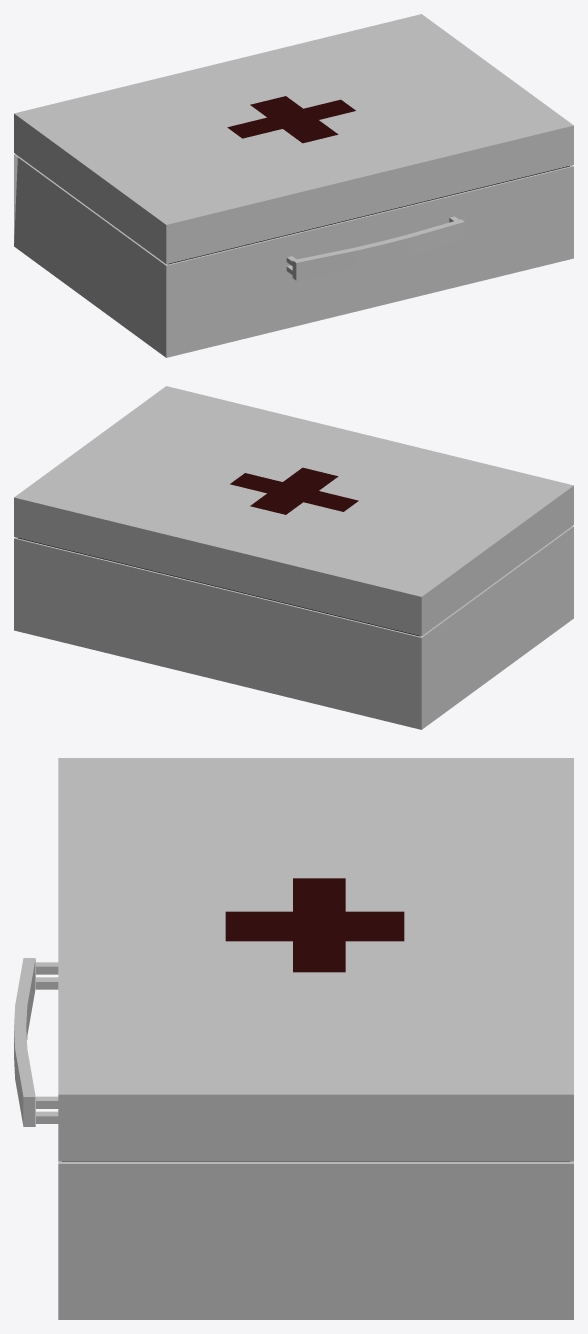
File: Obat.obj
3 renders of one model, top to bottom at view 1: azimuth 30°, elevation 25°; view 2: azimuth 150°, elevation 25°; view 3: azimuth 270°, elevation 25°, orthographic. The views are drawn at different scales.
Parts seen in each view (by area): view 1: Cube; view 2: Cube; view 3: Cube.
Part boxes in pixels (left/top/right/bottom): Cube: left=14, top=14, right=573, bottom=357; Cube: left=14, top=386, right=573, bottom=729; Cube: left=14, top=758, right=573, bottom=1319.
Bounding box in the file's own units: 2 × 0.6235 × 1.41.
